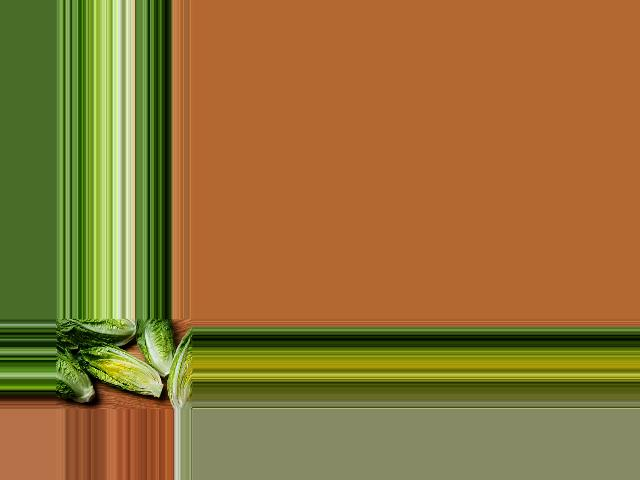lettuce: (165, 329, 193, 407)
